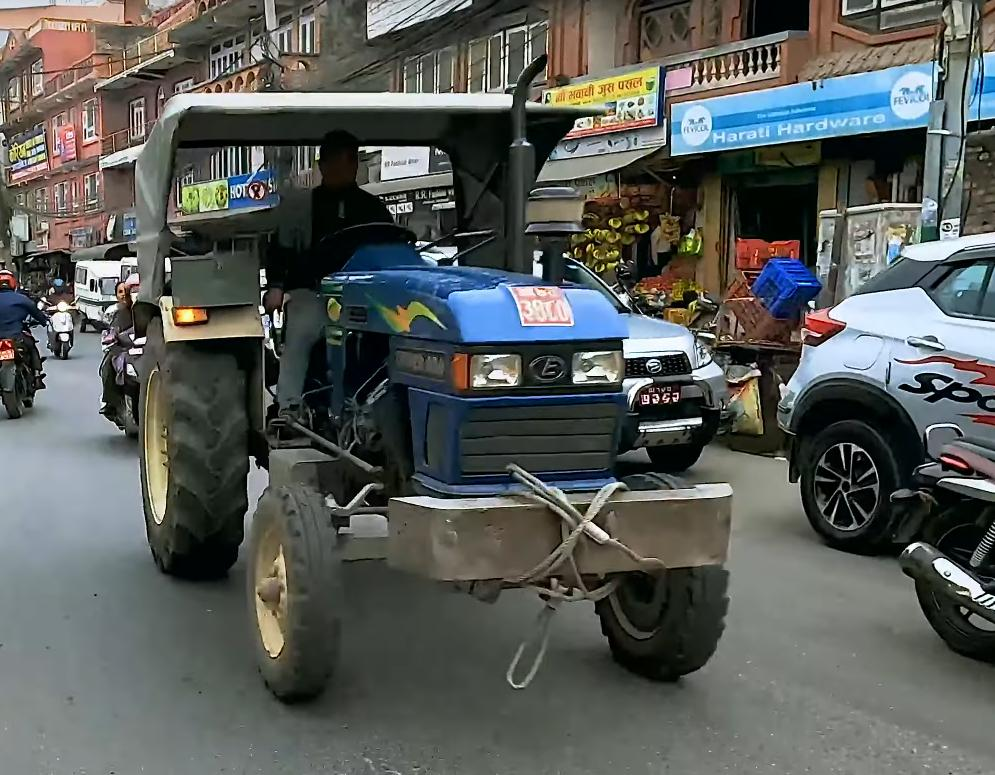bike: (889, 410, 995, 676), (0, 309, 49, 429)
car: (772, 222, 995, 562)
scooter: (38, 289, 83, 362)
tempo: (74, 254, 131, 331)
tractor: (129, 44, 746, 719)
